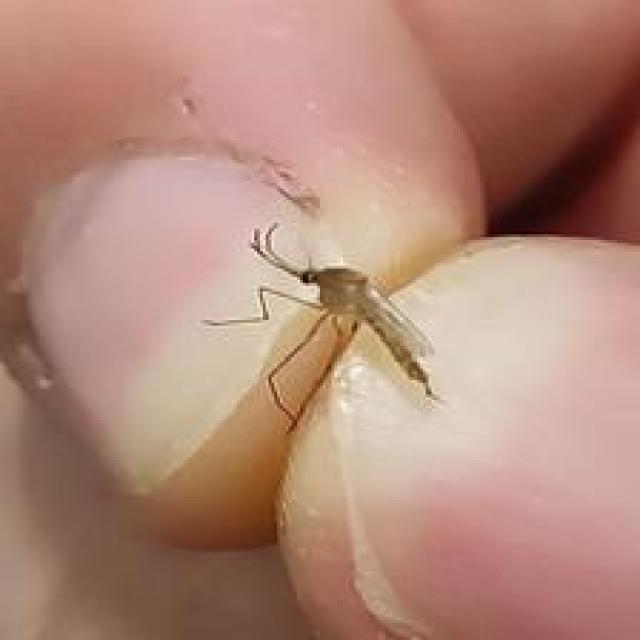Culex: (202, 220, 442, 434)
